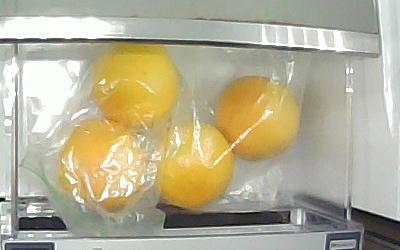grapefruit_vinyl: (56, 120, 148, 213), (218, 75, 302, 161), (91, 45, 181, 125), (155, 122, 234, 209)
